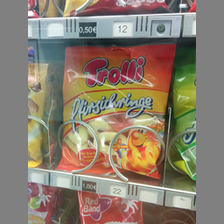candy: (55, 44, 173, 181)
